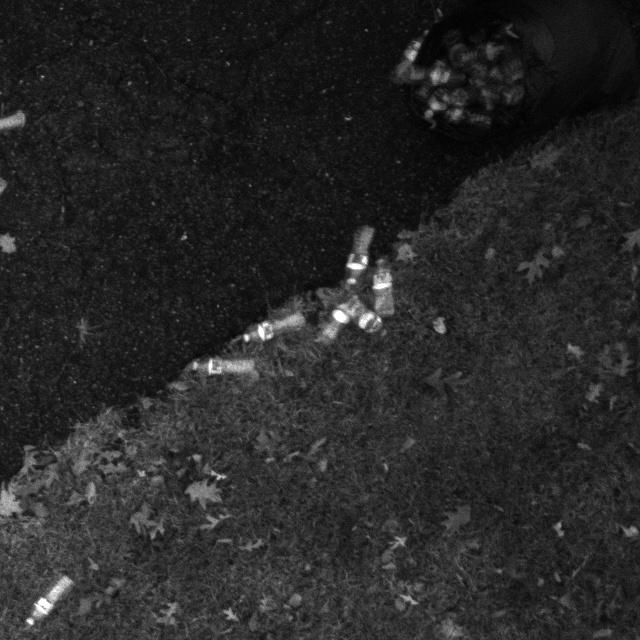bottle: (185, 337, 259, 388), (18, 568, 80, 623), (358, 252, 403, 325), (309, 288, 359, 352), (332, 213, 377, 282), (437, 68, 480, 140), (391, 23, 439, 85), (242, 304, 308, 349), (415, 68, 461, 132)
